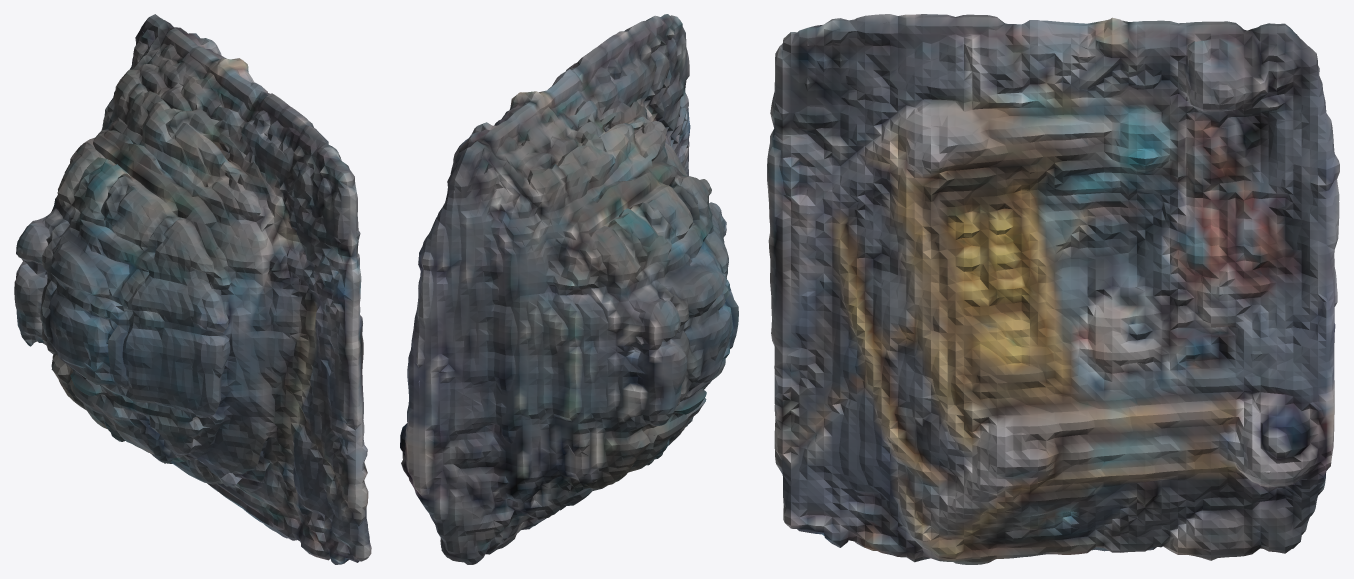
Rendered from building-triage-clinic.glb.
The picture shows the model from 3 angles, left to right: view 1: azimuth 30°, elevation 25°; view 2: azimuth 150°, elevation 25°; view 3: azimuth 270°, elevation 25°; orthographic projection. The views are drawn at different scales.
Visible parts, largest first — view 1: world; view 2: world; view 3: world.
Part boxes in pixels (bbox=[...]): world: bbox=[14, 14, 371, 564]; world: bbox=[400, 14, 738, 564]; world: bbox=[767, 14, 1339, 564].
Size of the model in its own units: 0.6146 by 0.9841 by 0.9531.
